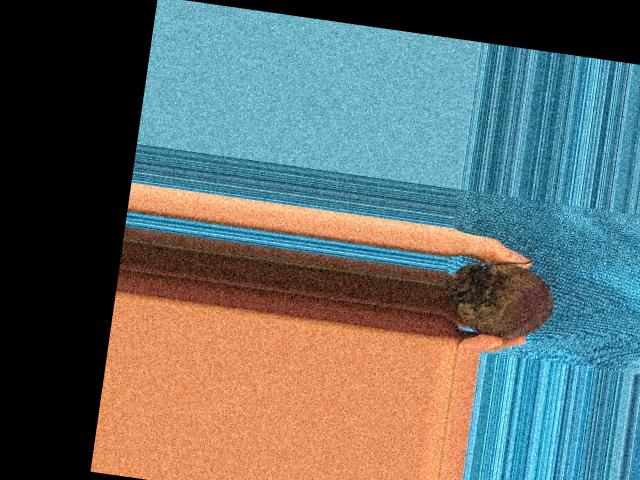beet: (440, 247, 559, 344)
